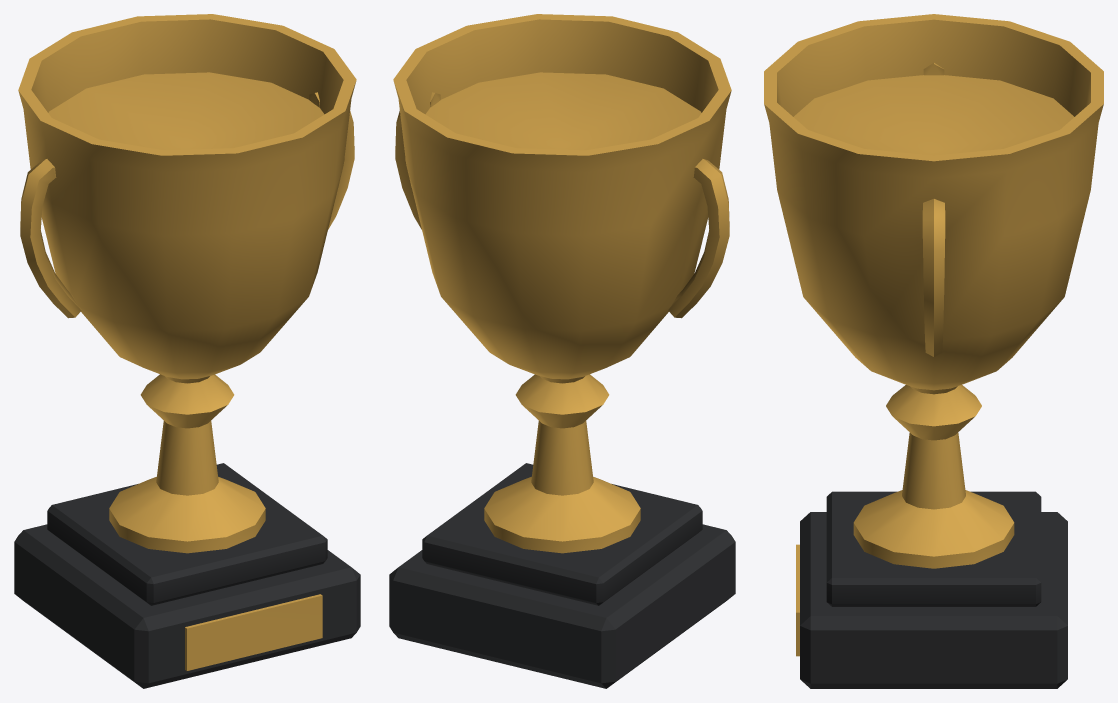
File: trophy.glb
3 views of the same model, side by side, from view 1: azimuth 30°, elevation 25°; view 2: azimuth 150°, elevation 25°; view 3: azimuth 270°, elevation 25° (orthographic). The views are drawn at different scales.
Visible parts, largest first — view 1: trophy; view 2: trophy; view 3: trophy.
Part boxes in pixels (box(x1,y1,x2,y2)): trophy: box(14, 14, 360, 688); trophy: box(389, 14, 735, 688); trophy: box(764, 14, 1103, 688).
Bounding box in the file's own units: 0.148 × 0.226 × 0.1267.
